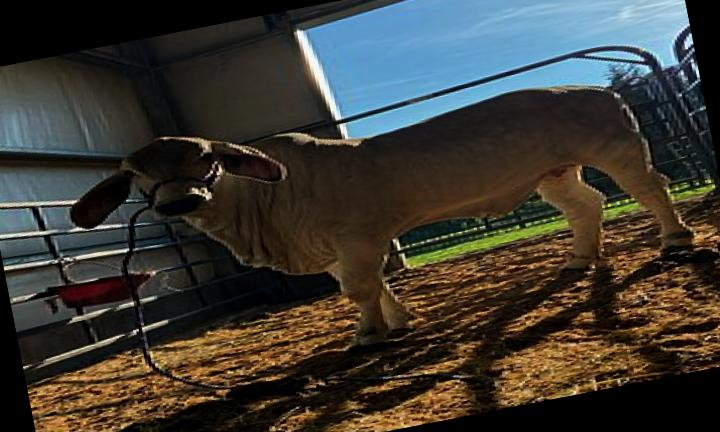Brahman: (74, 85, 692, 347)
